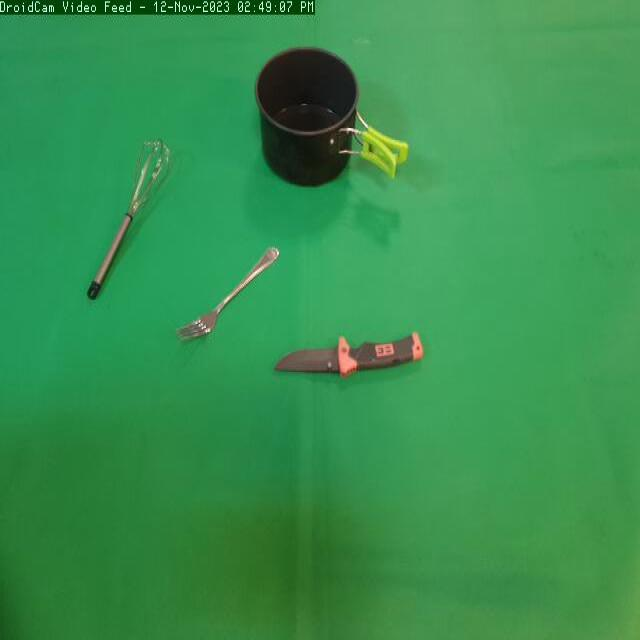fork: (169, 237, 282, 352)
knife: (265, 322, 431, 399)
pot: (251, 41, 413, 198)
whisk: (80, 130, 180, 306)
